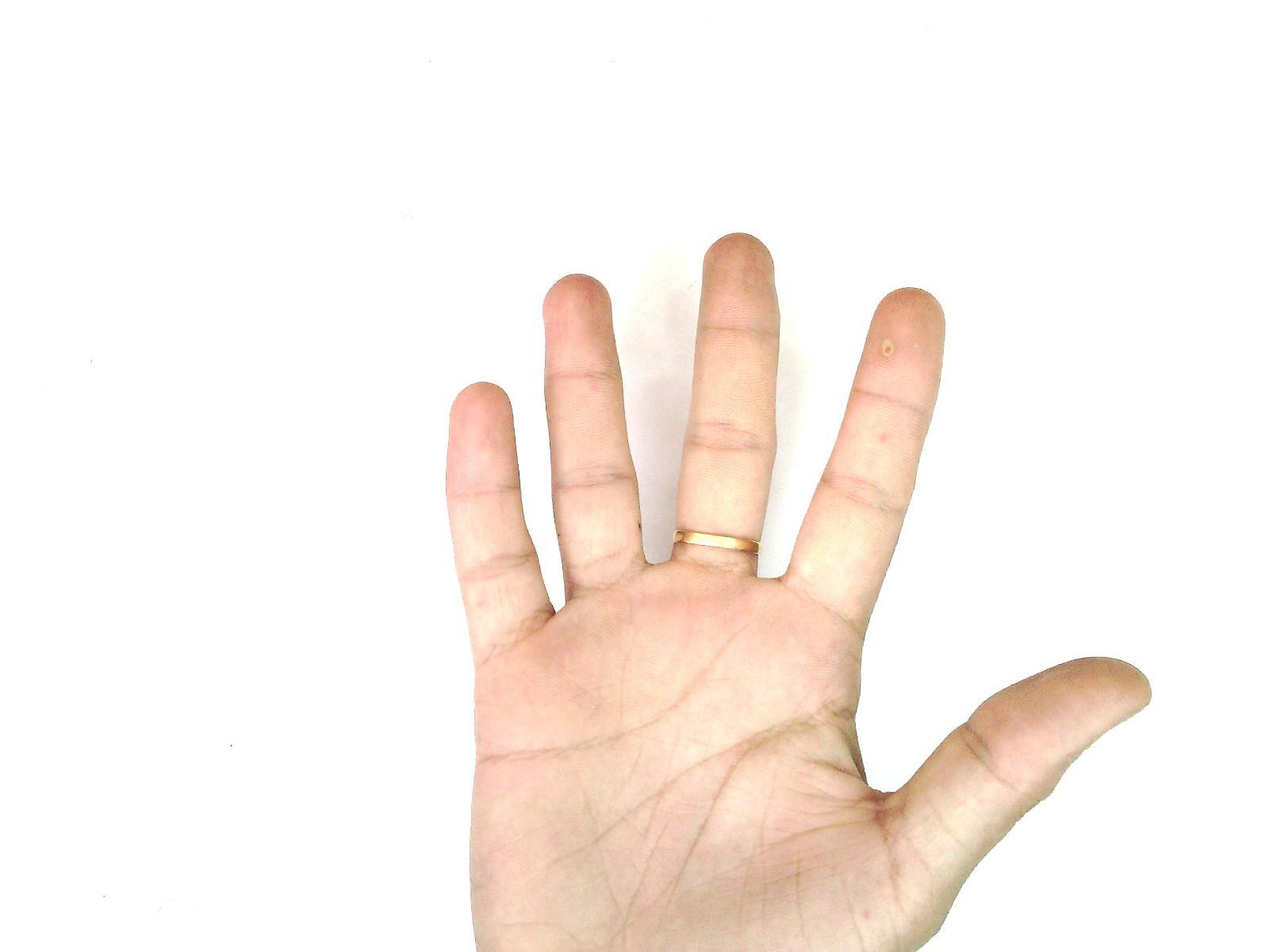open_palm: (440, 231, 1154, 952)
